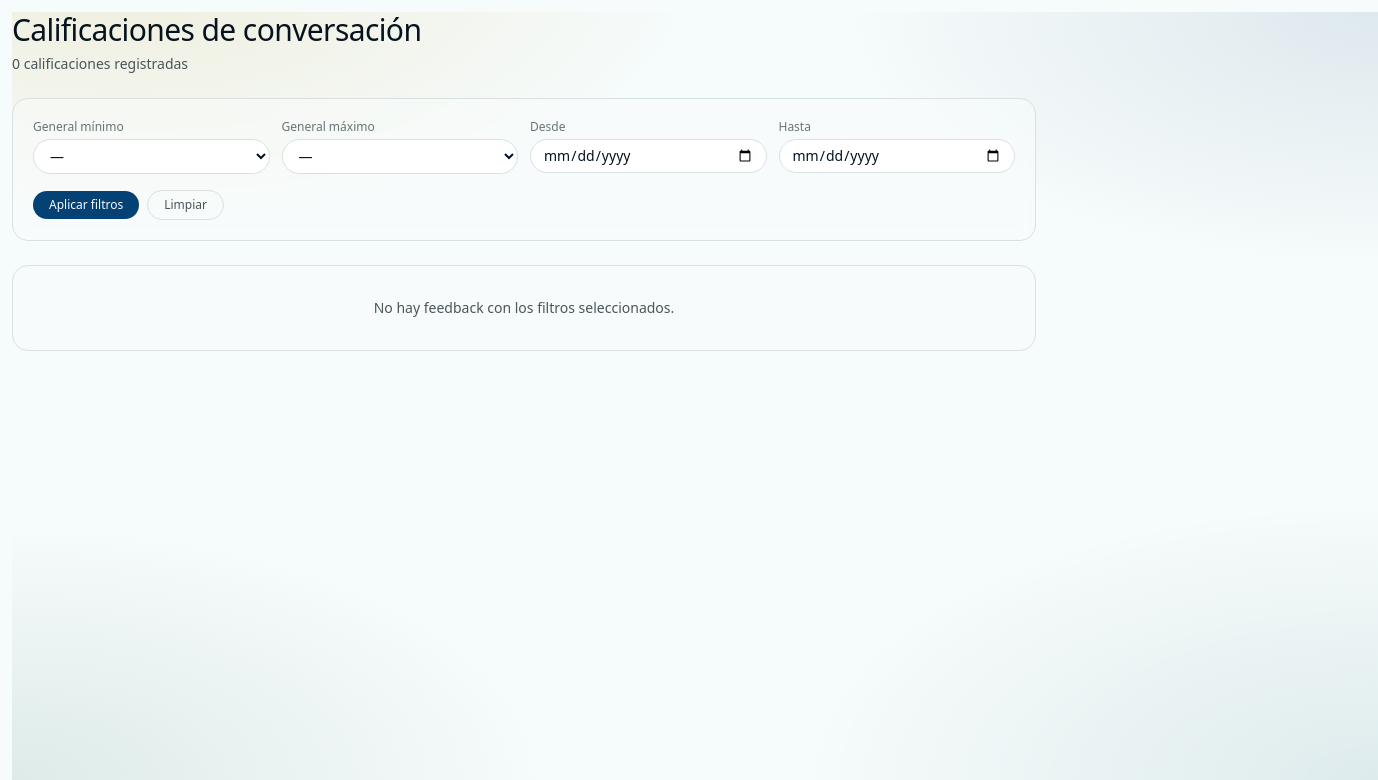
FeedbackPage — filtros administrativos (A3) › 'Limpiar' resetea los borradores, vuelve a la página 1 y genera como máximo una solicitud (G2.1)
Select "3 ★" in the dropdown labelled "General mínimo" at x=151, y=156, box [33, 139, 270, 174]
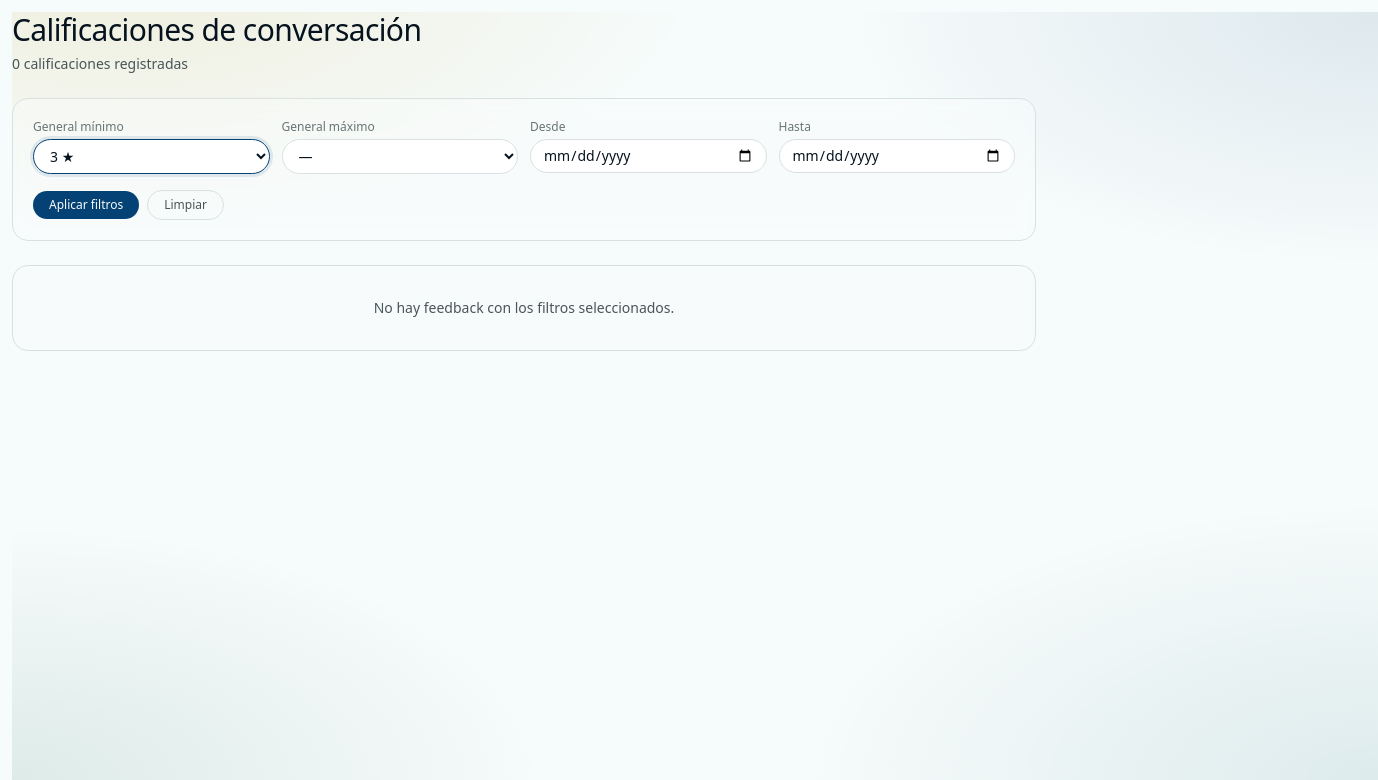
Select "5 ★" in the dropdown labelled "General máximo" at x=400, y=156, box [282, 139, 518, 174]
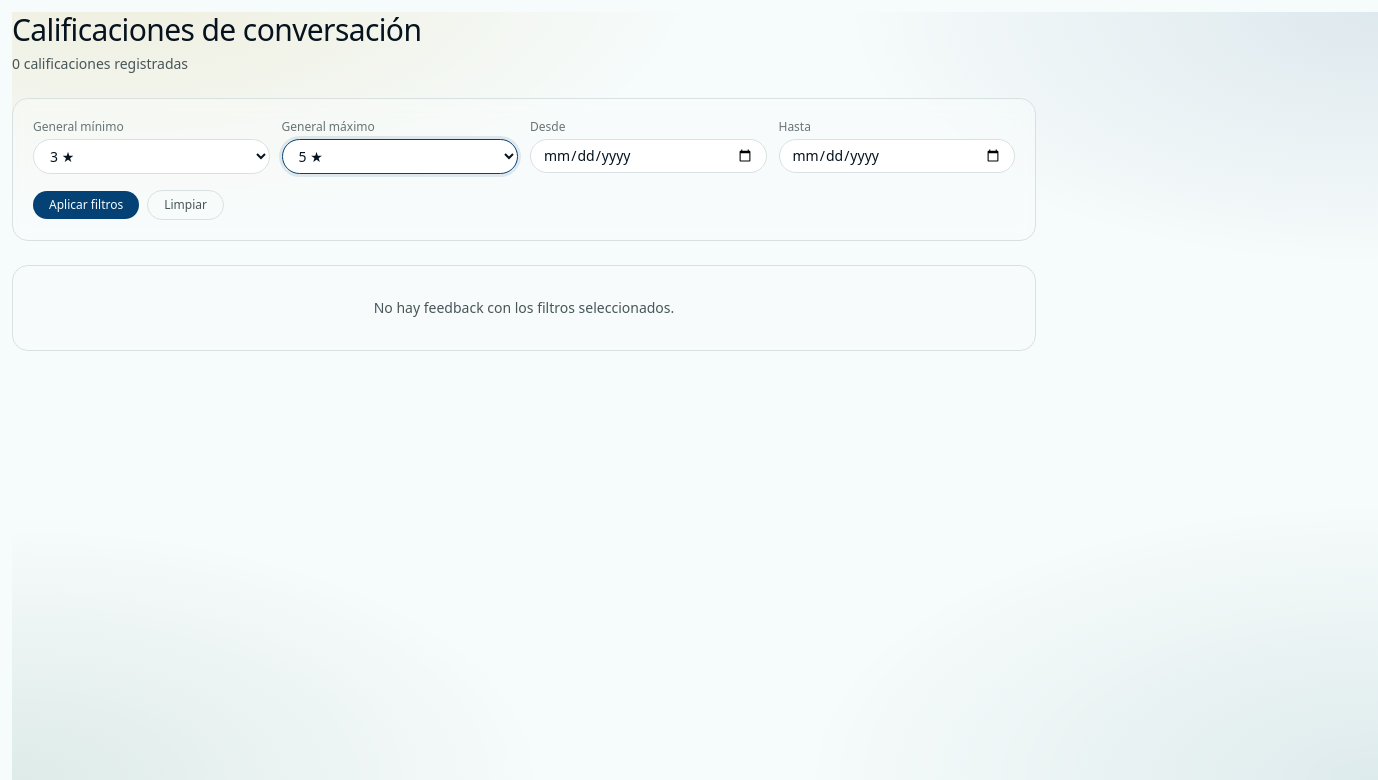
Type "2026-08-01" into the date field labelled "Desde" at x=648, y=156, box [530, 139, 766, 173]
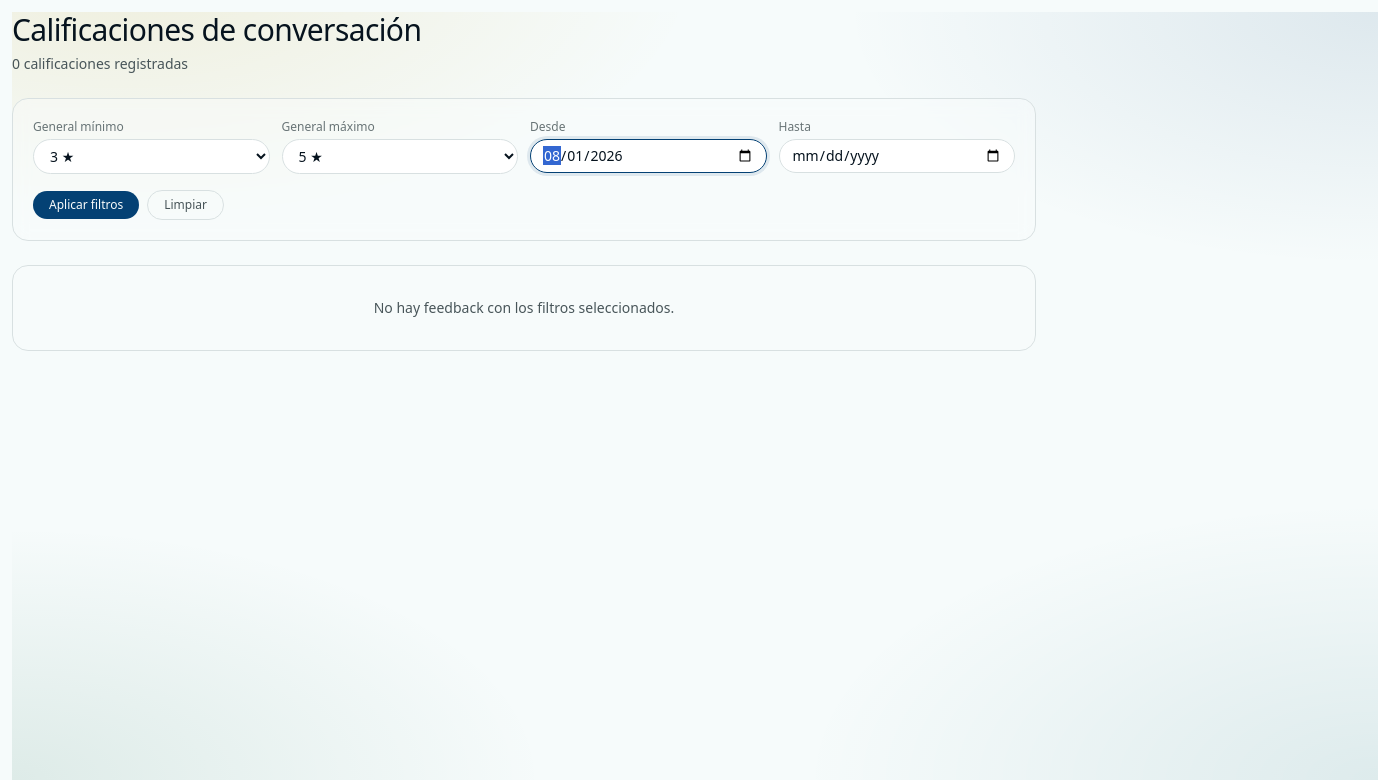
Type "2026-08-31" into the date field labelled "Hasta" at x=897, y=156, box [778, 139, 1015, 173]
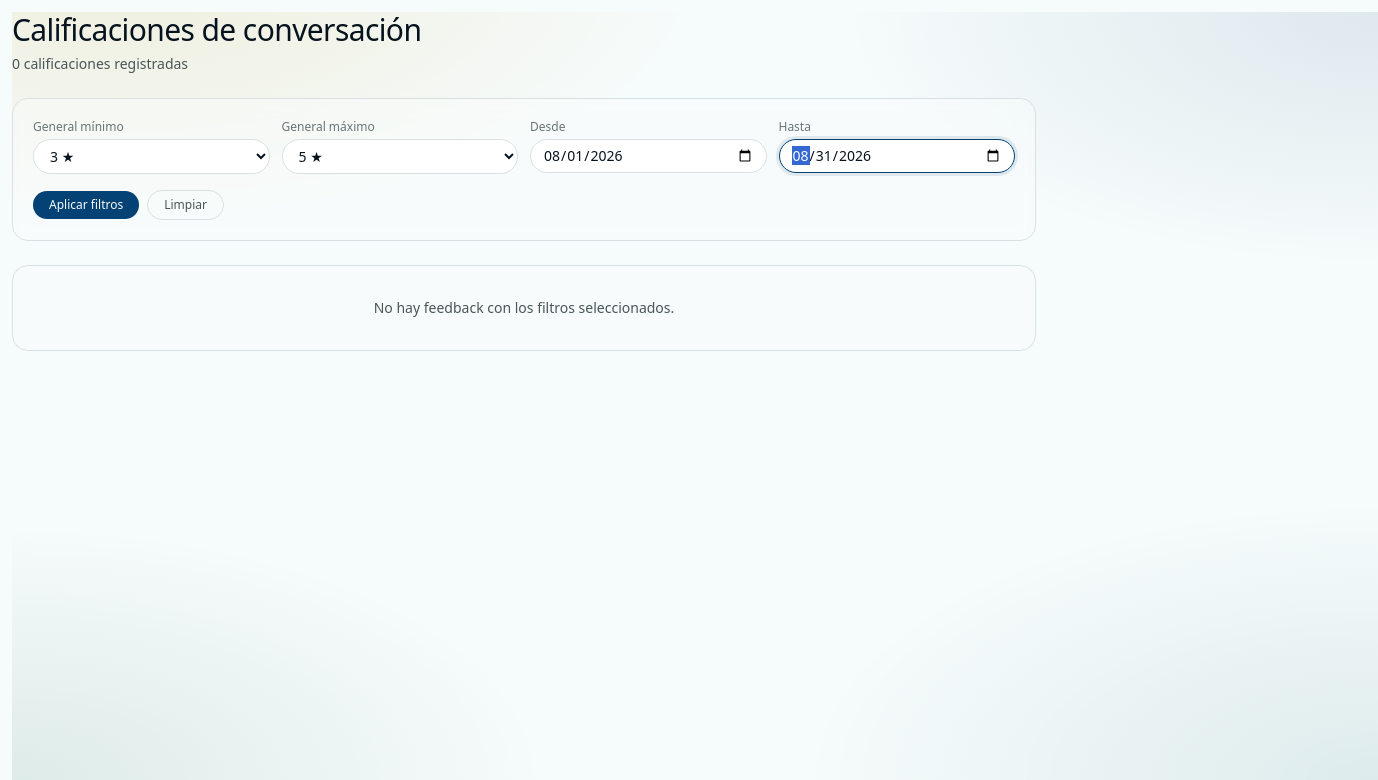
Click the button "Aplicar filtros" at x=86, y=205, box [33, 191, 139, 219]
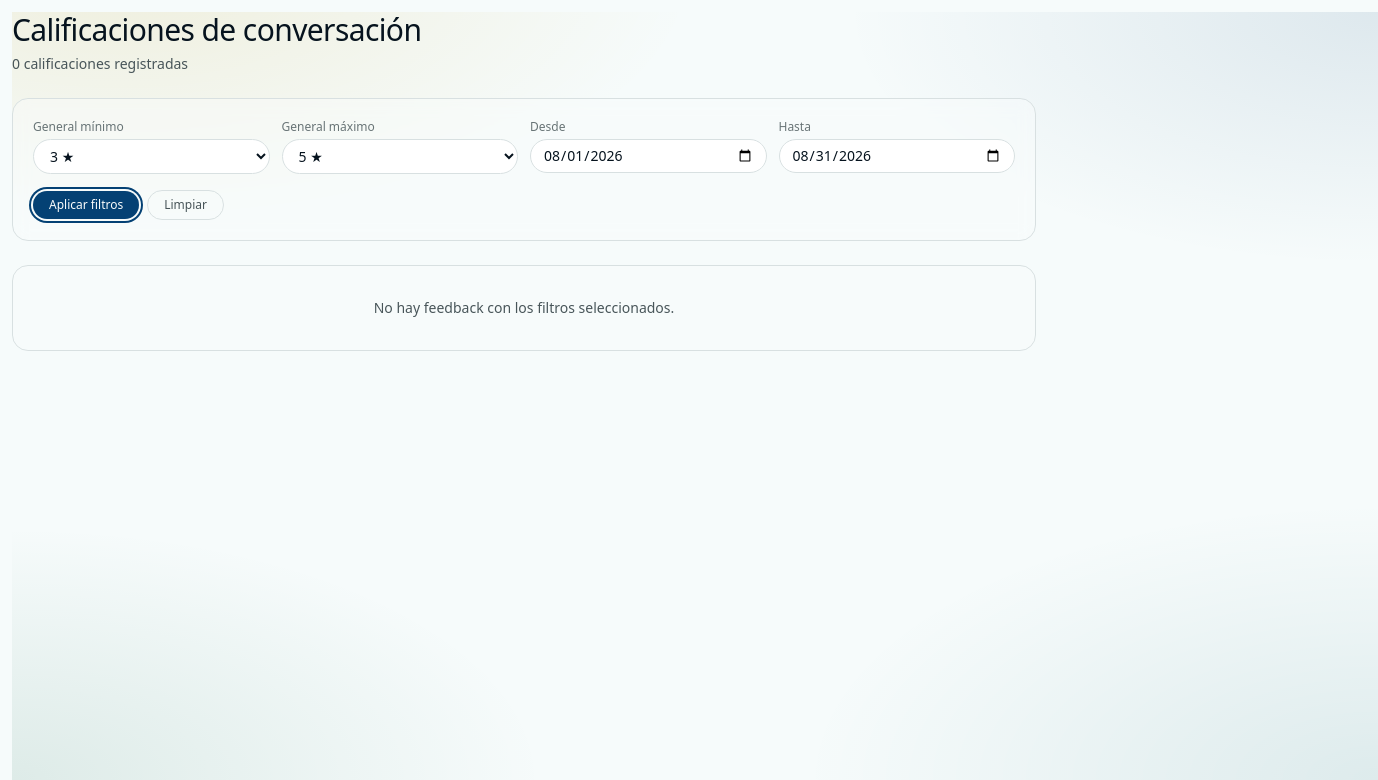
Click the button "Limpiar" at x=186, y=205, box [147, 190, 224, 220]
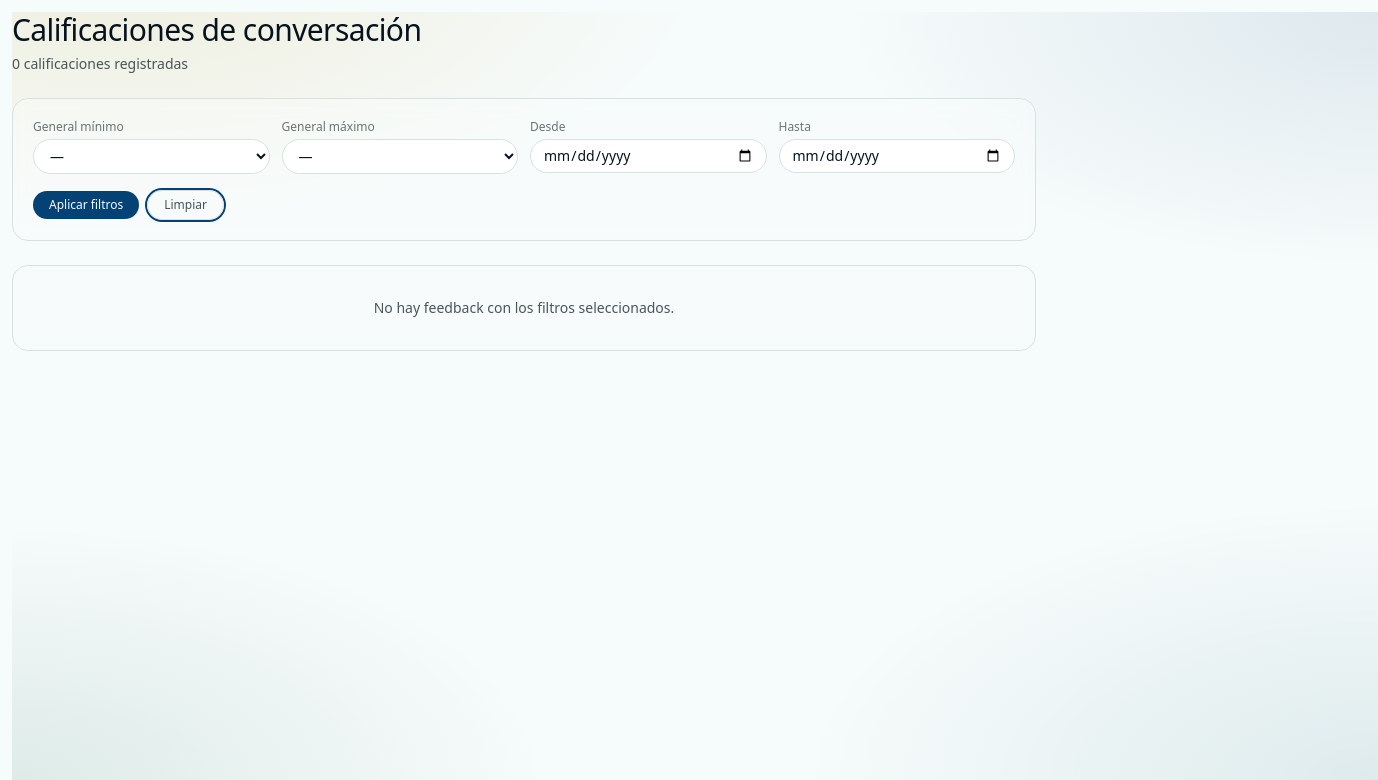
Check: the date field labelled "Desde" is empty, box [530, 139, 766, 173]
Check: the date field labelled "Hasta" is empty, box [778, 139, 1015, 173]
